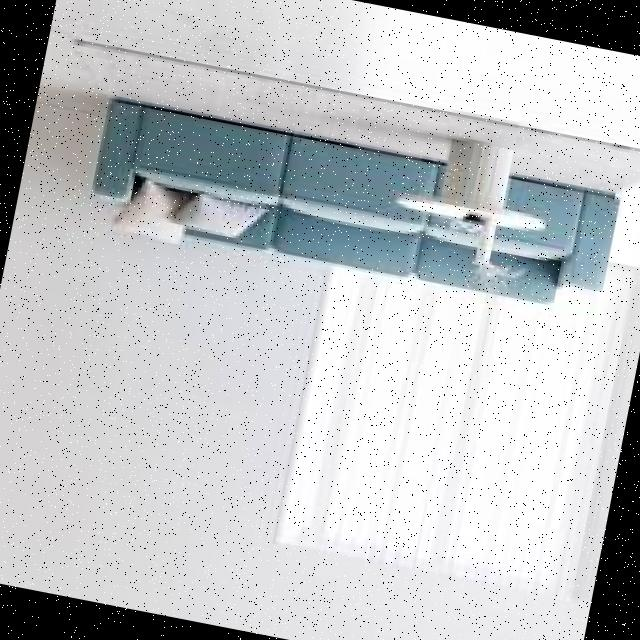Sofa: (64, 69, 640, 342)
